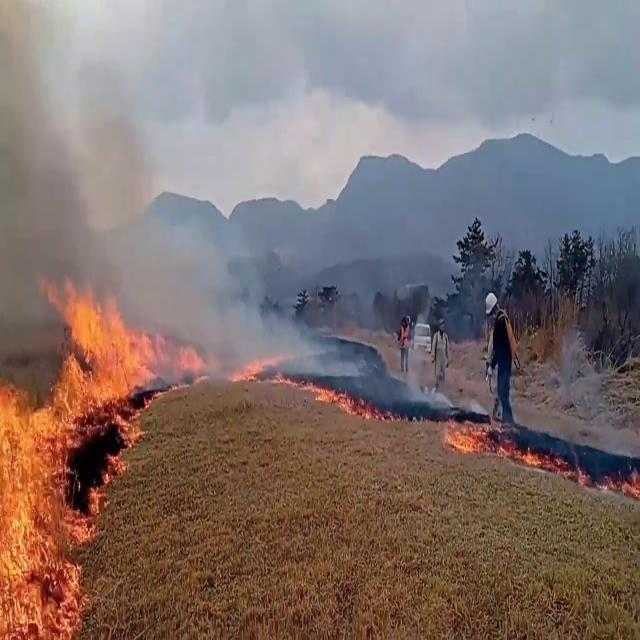Fire: (0, 277, 166, 638), (440, 404, 488, 458), (309, 372, 359, 422), (175, 336, 209, 382)
Smoke: (1, 1, 166, 353), (170, 224, 289, 394)
